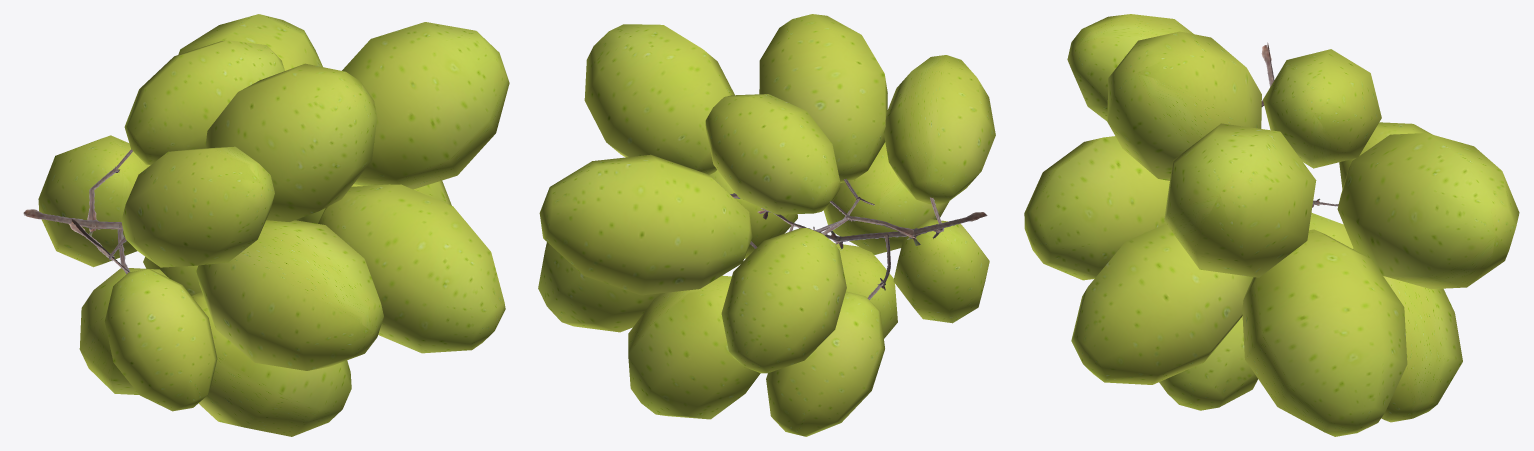
Rendered from GreenGrape.fbx.
The picture shows the model from 3 angles, left to right: view 1: azimuth 30°, elevation 25°; view 2: azimuth 150°, elevation 25°; view 3: azimuth 270°, elevation 25°; orthographic projection. The views are drawn at different scales.
Visible parts, largest first — view 1: Green Grape; view 2: Green Grape; view 3: Green Grape.
Boxes of the visible parts, x1,y1,x2,y2 form: Green Grape: (23, 14, 509, 436); Green Grape: (538, 14, 995, 436); Green Grape: (1024, 14, 1519, 436).
Size of the model in its own units: 0.0802 by 0.075 by 0.061.
